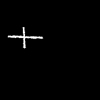single_crochet: (8, 27, 41, 47)
